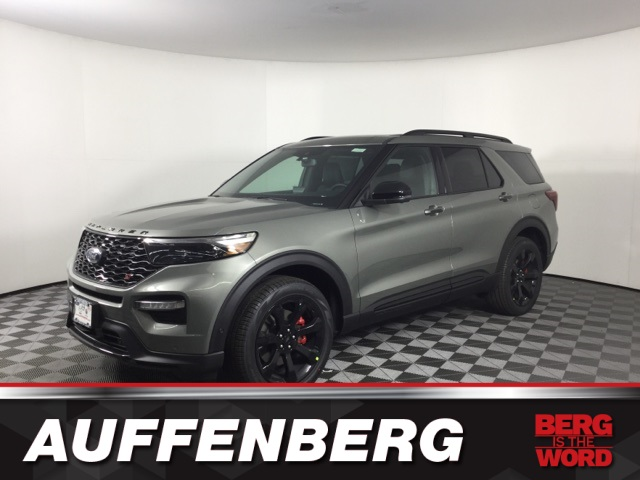Ford Explorer: (61, 126, 564, 382)
